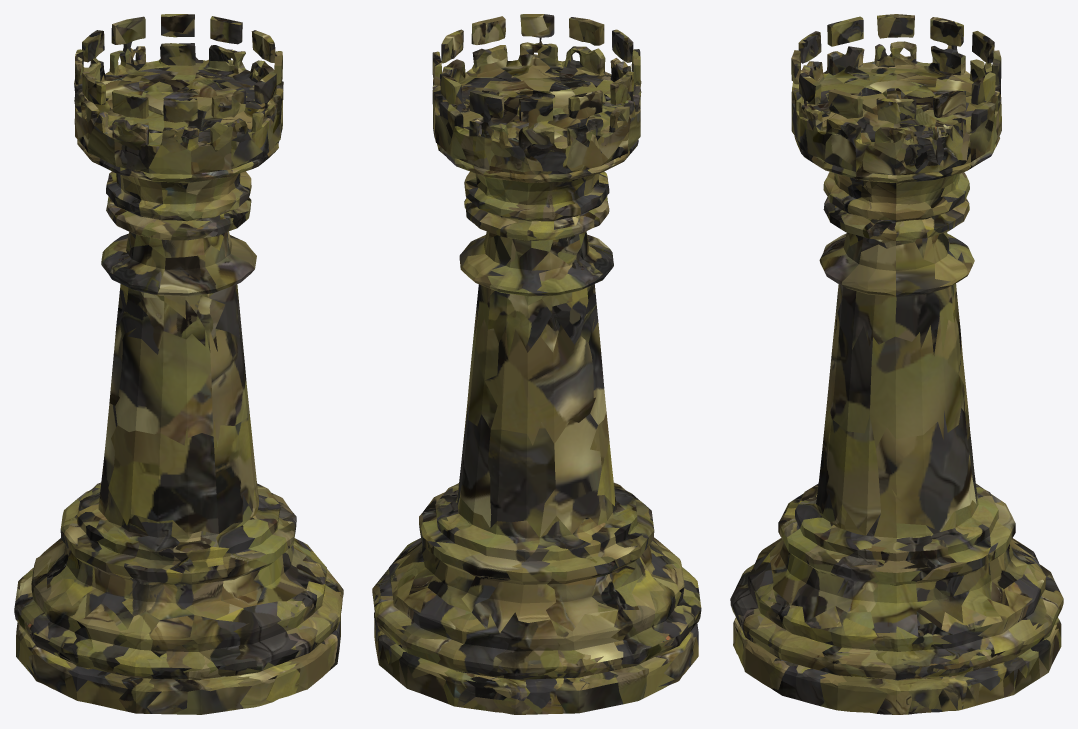
Rendered from faz_me_uma_torre_de_x_0708153304_texture.fbx.
The picture shows the model from 3 angles, left to right: view 1: azimuth 30°, elevation 25°; view 2: azimuth 150°, elevation 25°; view 3: azimuth 270°, elevation 25°; orthographic projection.
Visible parts, largest first — view 1: temp; view 2: temp; view 3: temp.
Part boxes in pixels (x1,y1,x2,y2): temp: (14,14,343,714); temp: (372,14,701,714); temp: (730,14,1063,714).
Bounding box in the file's own units: 91.62 × 178 × 91.53.
